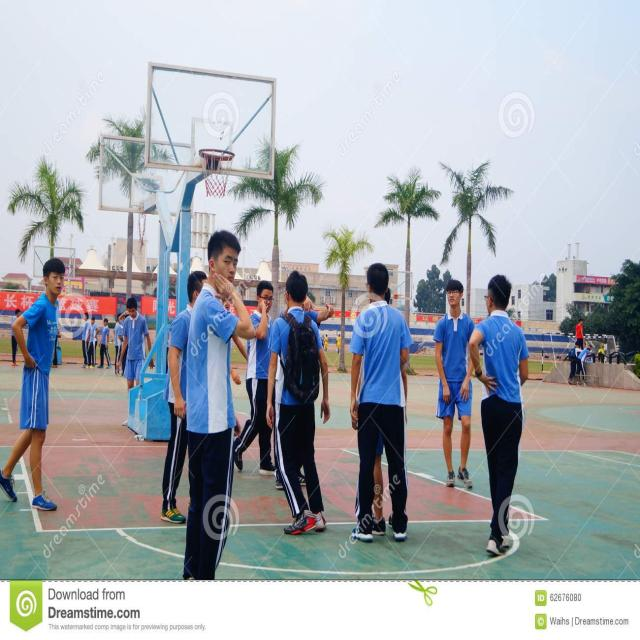body: (182, 228, 258, 613), (264, 269, 332, 537), (467, 272, 530, 558), (348, 262, 410, 544), (0, 254, 66, 511), (271, 279, 337, 492), (160, 270, 208, 524), (363, 285, 406, 536), (432, 279, 476, 489), (234, 279, 277, 476), (116, 296, 154, 427), (222, 296, 249, 388), (84, 314, 100, 370), (96, 317, 112, 370), (574, 346, 594, 387), (567, 340, 584, 388), (118, 310, 130, 377), (10, 308, 22, 366), (114, 313, 124, 376), (80, 312, 91, 368), (51, 330, 61, 368), (574, 318, 585, 350), (165, 315, 170, 373), (322, 333, 328, 353), (336, 334, 341, 354), (586, 344, 594, 356), (320, 335, 325, 348), (603, 355, 608, 363), (583, 340, 587, 349)
